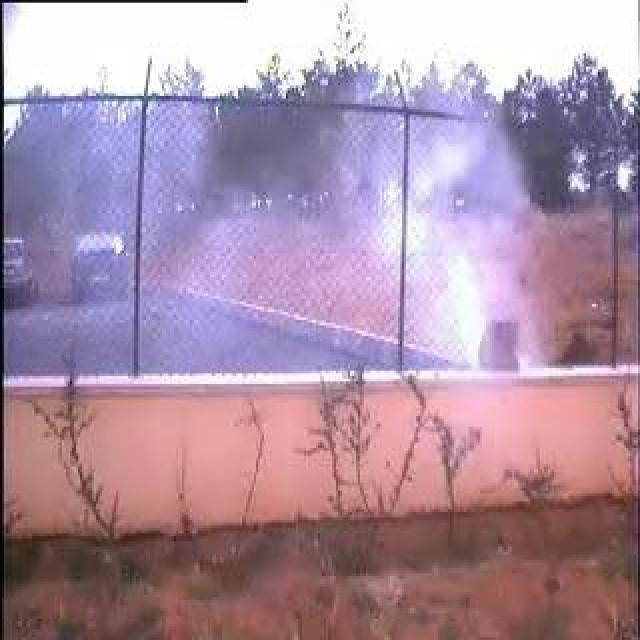Smoke: (378, 130, 552, 370)
